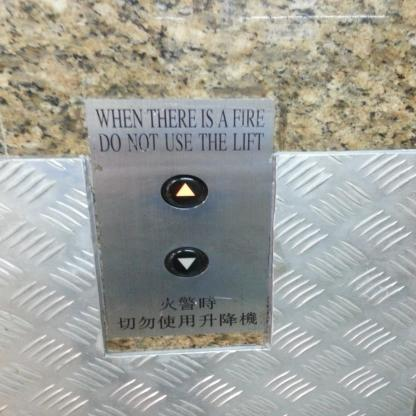down: (164, 247, 210, 278)
up: (159, 171, 208, 209)
